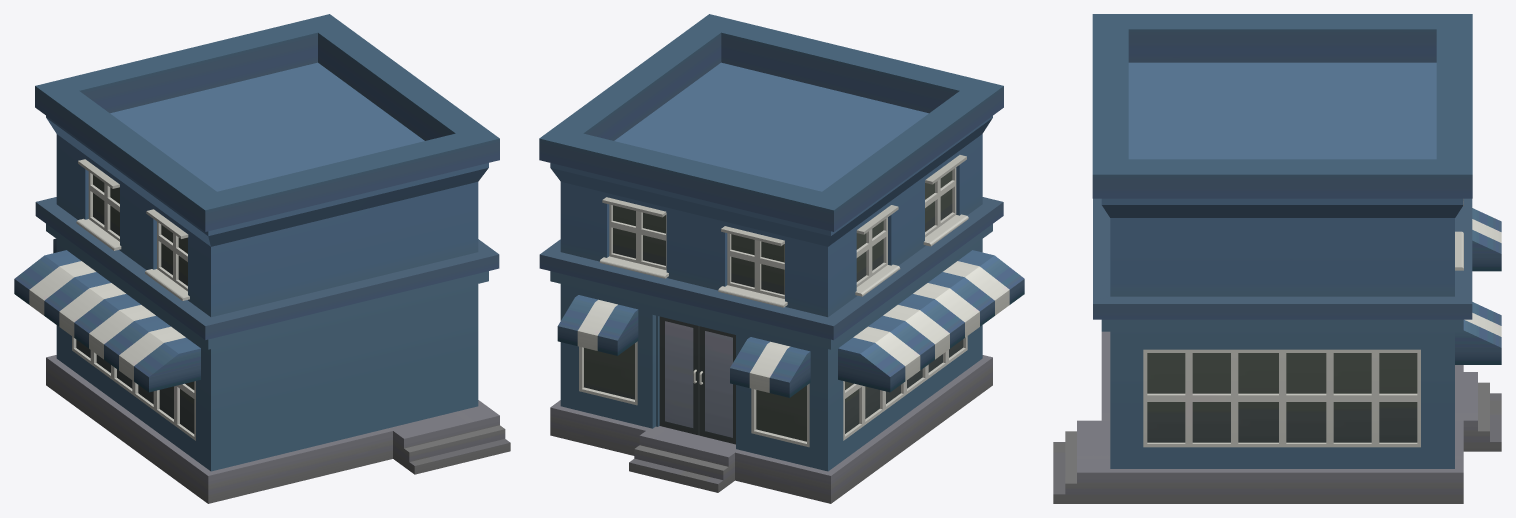
The model's file is Shop 1.fbx.
3 views of the same model, side by side, from view 1: azimuth 30°, elevation 25°; view 2: azimuth 150°, elevation 25°; view 3: azimuth 270°, elevation 25° (orthographic). The views are drawn at different scales.
Visible parts, largest first — view 1: Shop1; view 2: Shop1; view 3: Shop1.
Boxes of the visible parts, left/top/right/bottom form: Shop1: left=14, top=14, right=510, bottom=503; Shop1: left=539, top=14, right=1024, bottom=503; Shop1: left=1053, top=14, right=1501, bottom=503.
Bounding box in the file's own units: 274 × 234 × 286.
